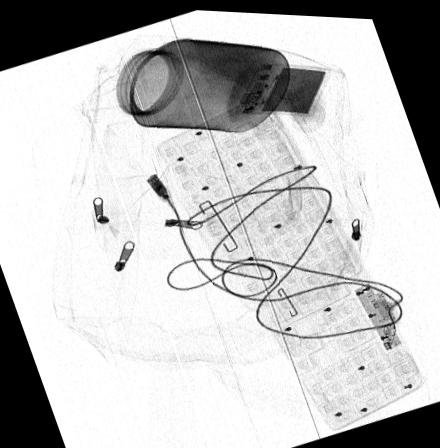Powerbank: (231, 59, 329, 111)
